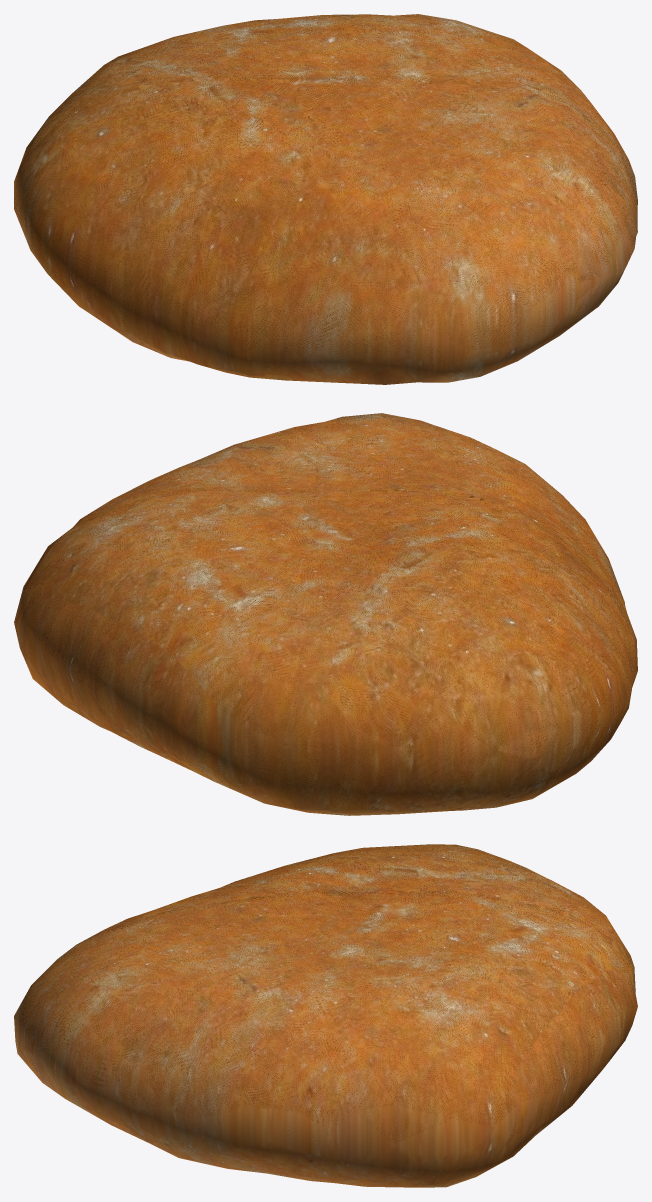
File: rock4.dae
The picture shows the model from 3 angles, top to bottom: view 1: azimuth 30°, elevation 25°; view 2: azimuth 150°, elevation 25°; view 3: azimuth 270°, elevation 25°; orthographic projection. The views are drawn at different scales.
Visible parts, largest first — view 1: group_0; view 2: group_0; view 3: group_0.
Boxes of the visible parts, x1,y1,x2,y2 form: group_0: [14, 14, 637, 384]; group_0: [14, 413, 637, 815]; group_0: [14, 844, 637, 1187].
Bounding box in the file's own units: 4.58 × 4.84 × 1.74.
2 materials, 2 textured.
